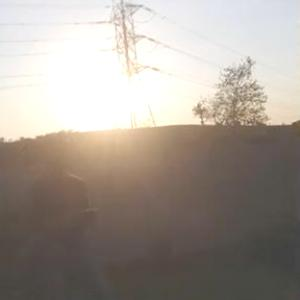follow: (27, 130, 101, 299)
